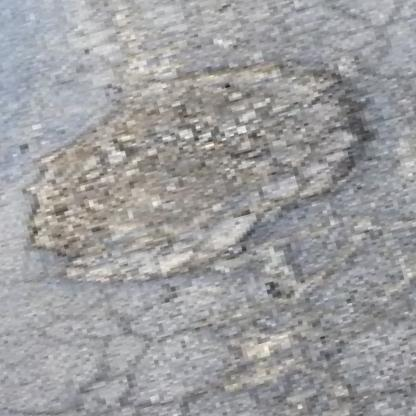pothole: (0, 24, 401, 311)
